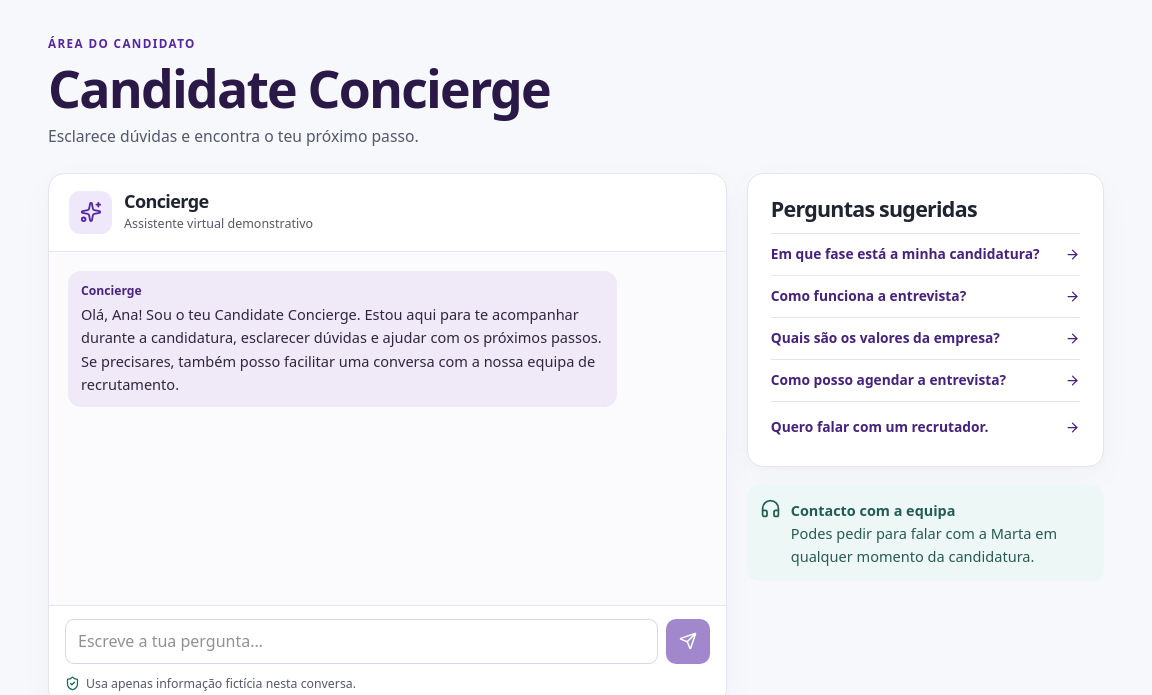
Test: Concierge e Momentos Humanos › reconhece a limitação e só encaminha uma dúvida desconhecida após confirmação
This screenshot has width=1152, height=695.
Earlier steps of the test are not shown.
(page scrolled)
In the field named "A tua mensagem": coordinates (361, 641) [65,619,658,664], type "Qual é o salário da vaga?"
Then press Enter
(page scrolled)
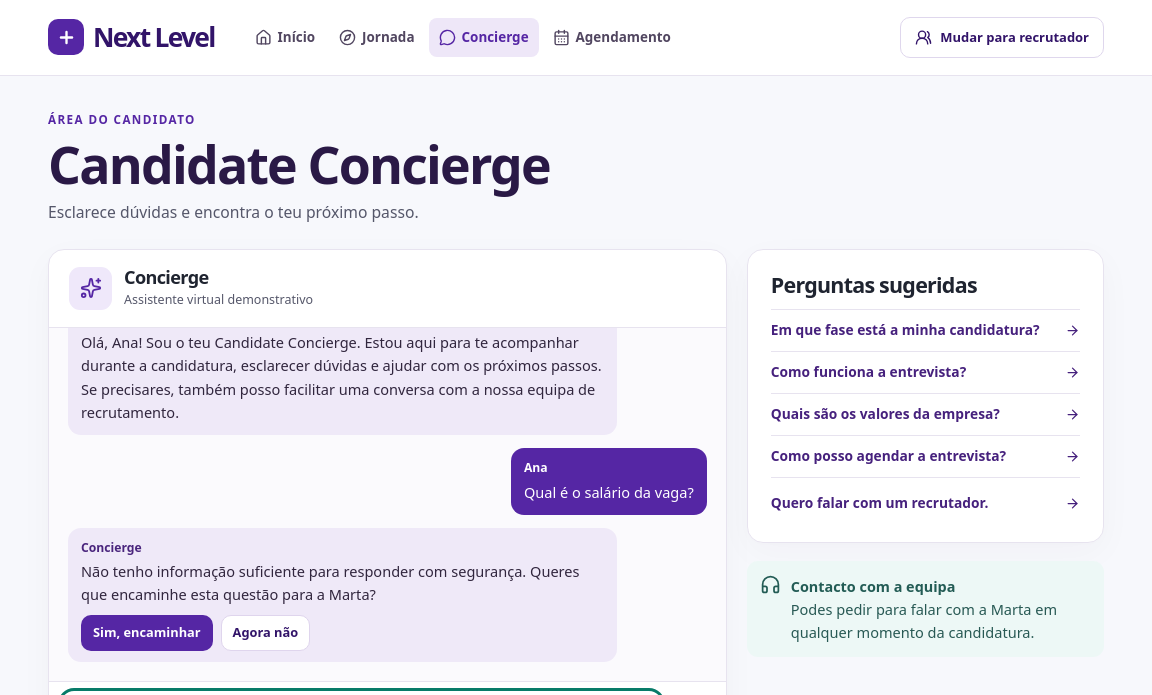
Expected: the text "Não tenho informação suficiente para responder com segurança. Queres que encaminhe esta questão para a Marta?" is shown, [81,561,580,604]
Click the button "Mudar para recrutador": coordinates (1002, 38) [900,17,1104,58]
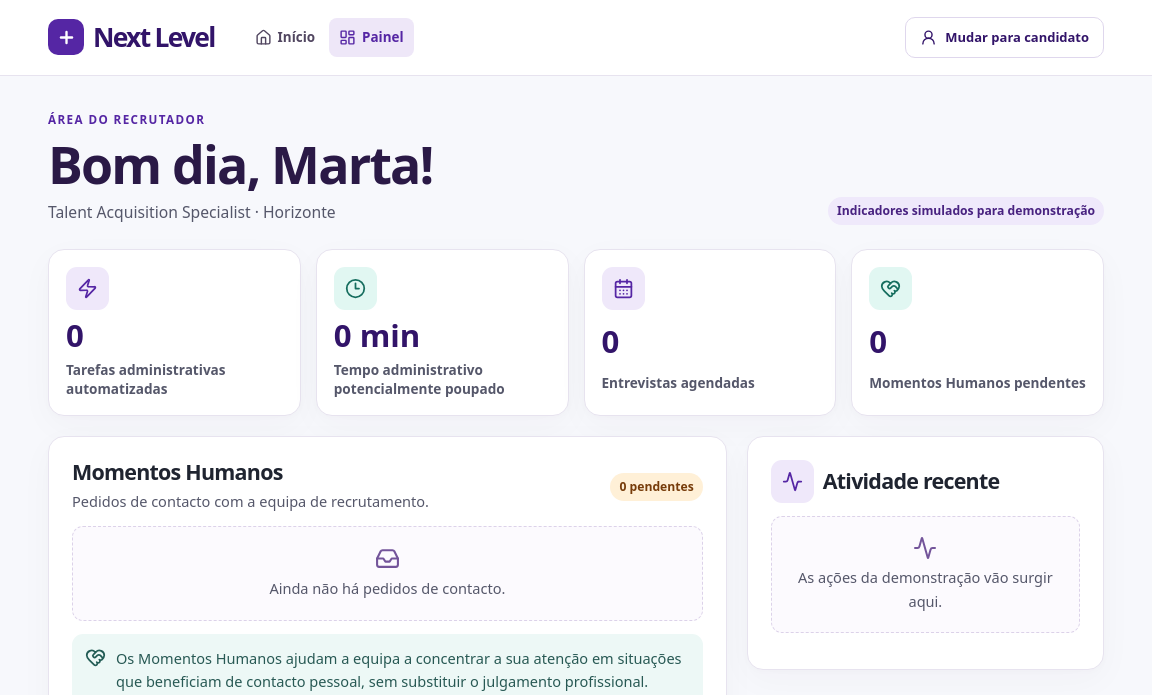
Expected: the text "Ainda não há pedidos de contacto." is shown, [269,577,505,601]
Click the button "Mudar para candidato": coordinates (1005, 38) [905,17,1104,58]
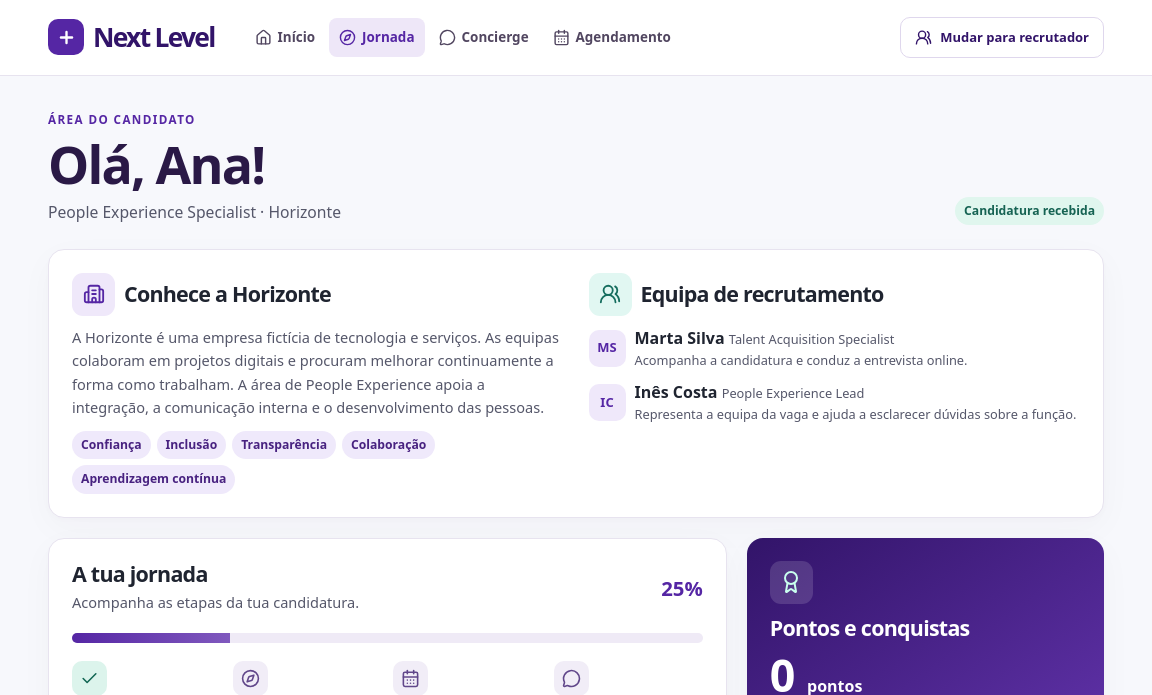
Click the button "Concierge": coordinates (484, 38) [428,18,539,57]
(page scrolled)
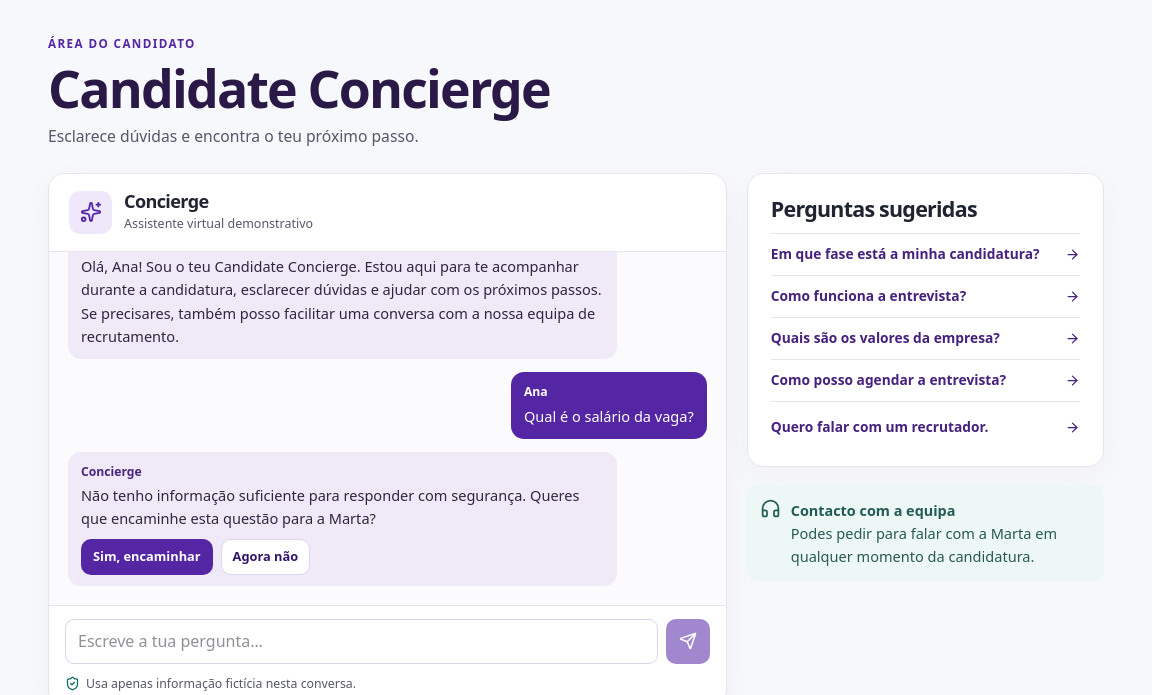
Click the button "Sim, encaminhar": coordinates (147, 557) [81,539,213,575]
(page scrolled)
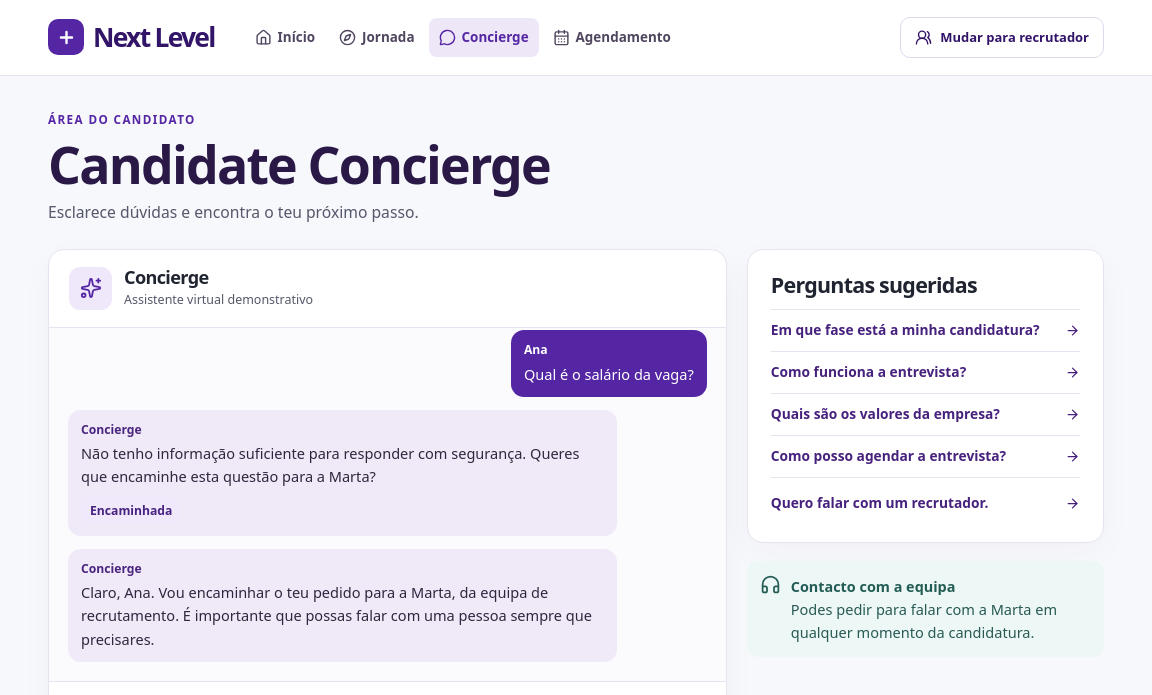
Click the button "Mudar para recrutador": coordinates (1002, 38) [900,17,1104,58]
(page scrolled)
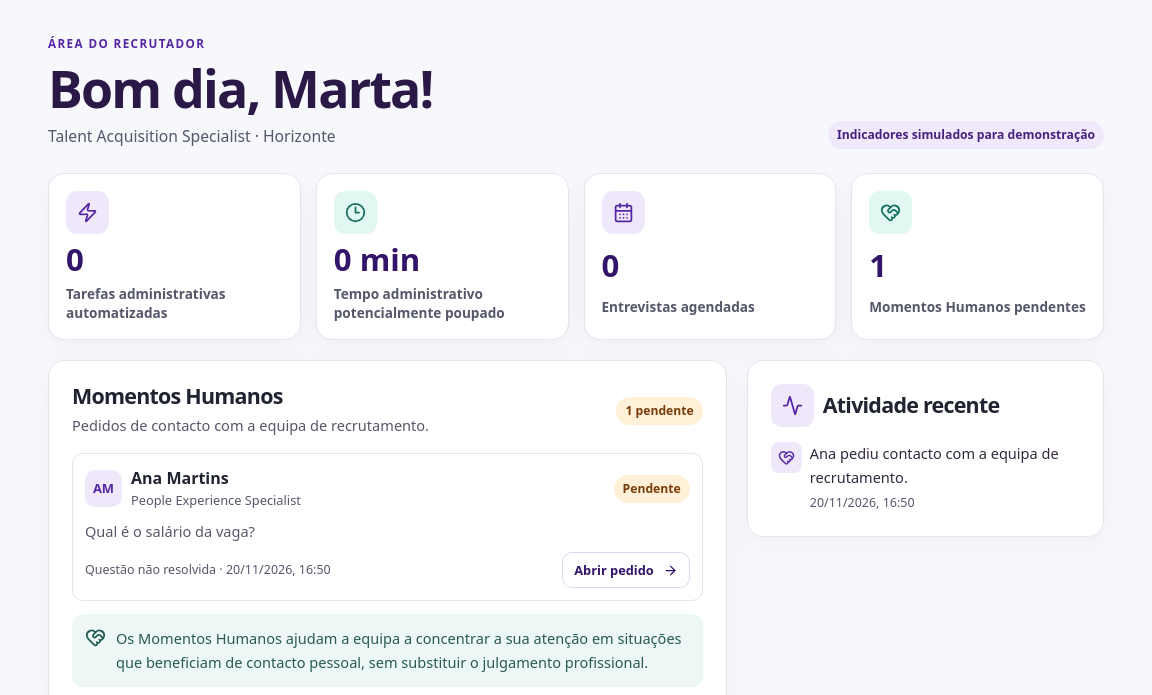
Expected: the text "Qual é o salário da vaga?" is shown, [85,521,255,541]
Expected: the text "Questão não resolvida" is shown, [85,561,216,578]
Expected: the text "1 pendente" is shown, [616,397,703,425]
